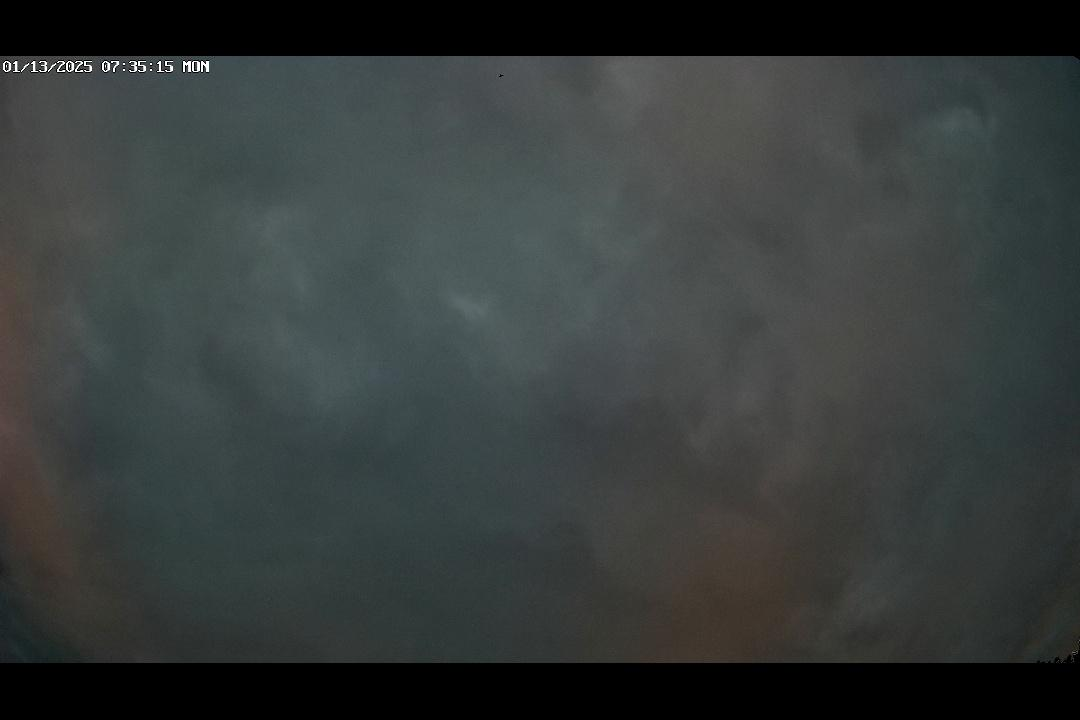WildLife: (488, 69, 514, 81)
